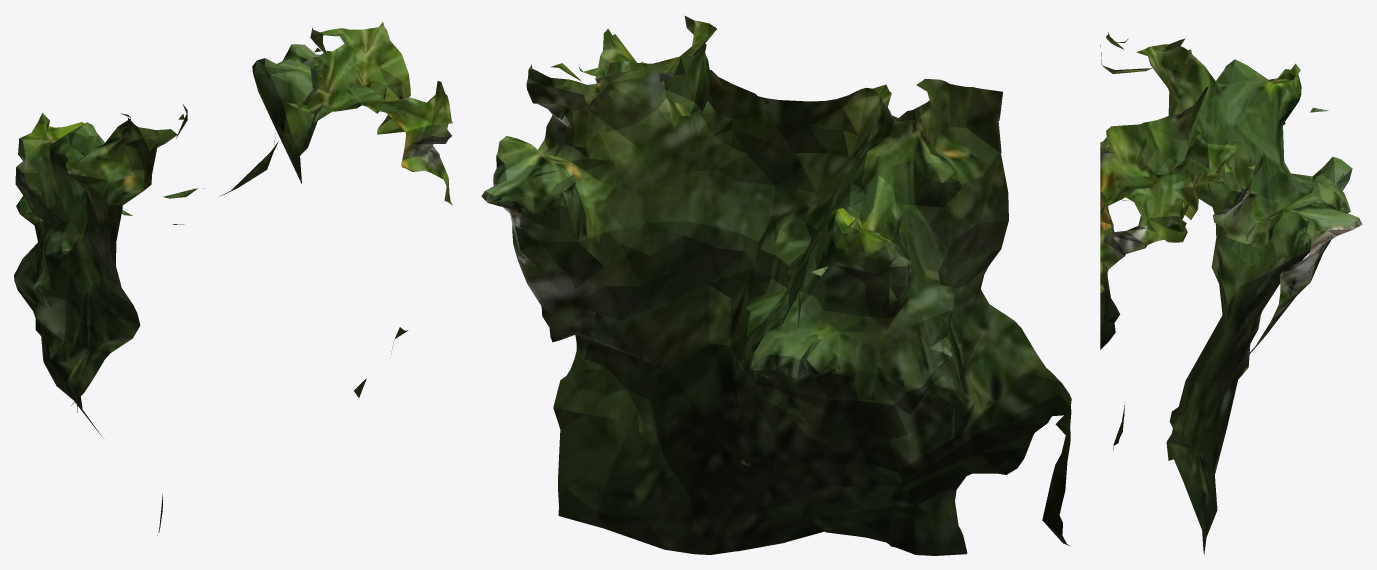
The picture shows the model from 3 angles, left to right: view 1: azimuth 30°, elevation 25°; view 2: azimuth 150°, elevation 25°; view 3: azimuth 270°, elevation 25°; orthographic projection. The views are drawn at different scales.
Size of the model in its own units: 0.8374 by 0.8374 by 0.5124.
Materials: 4 (4 with a texture image).
